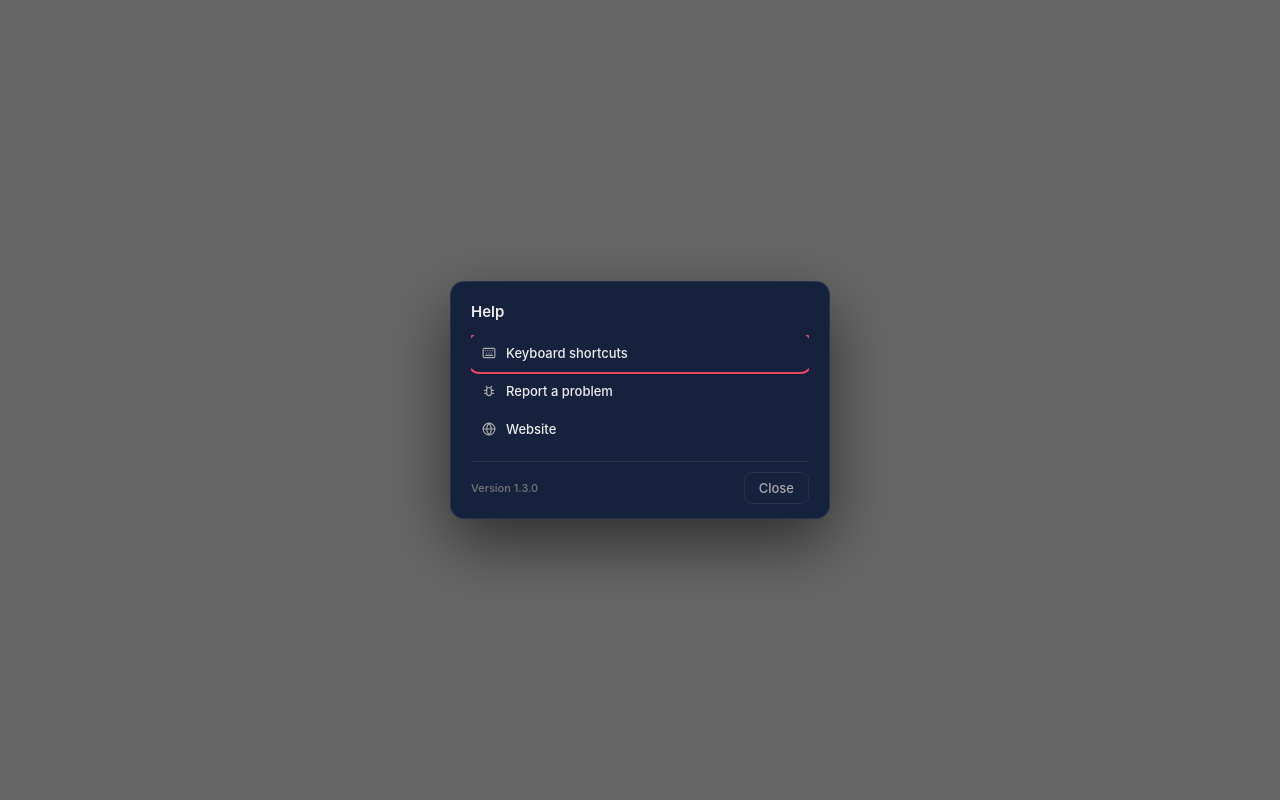
Scenario: HelpMenu — actions › reports a failed export instead of a fake path
Click the button "Report a problem".
click(559, 391)  # box [471,373,809,409]
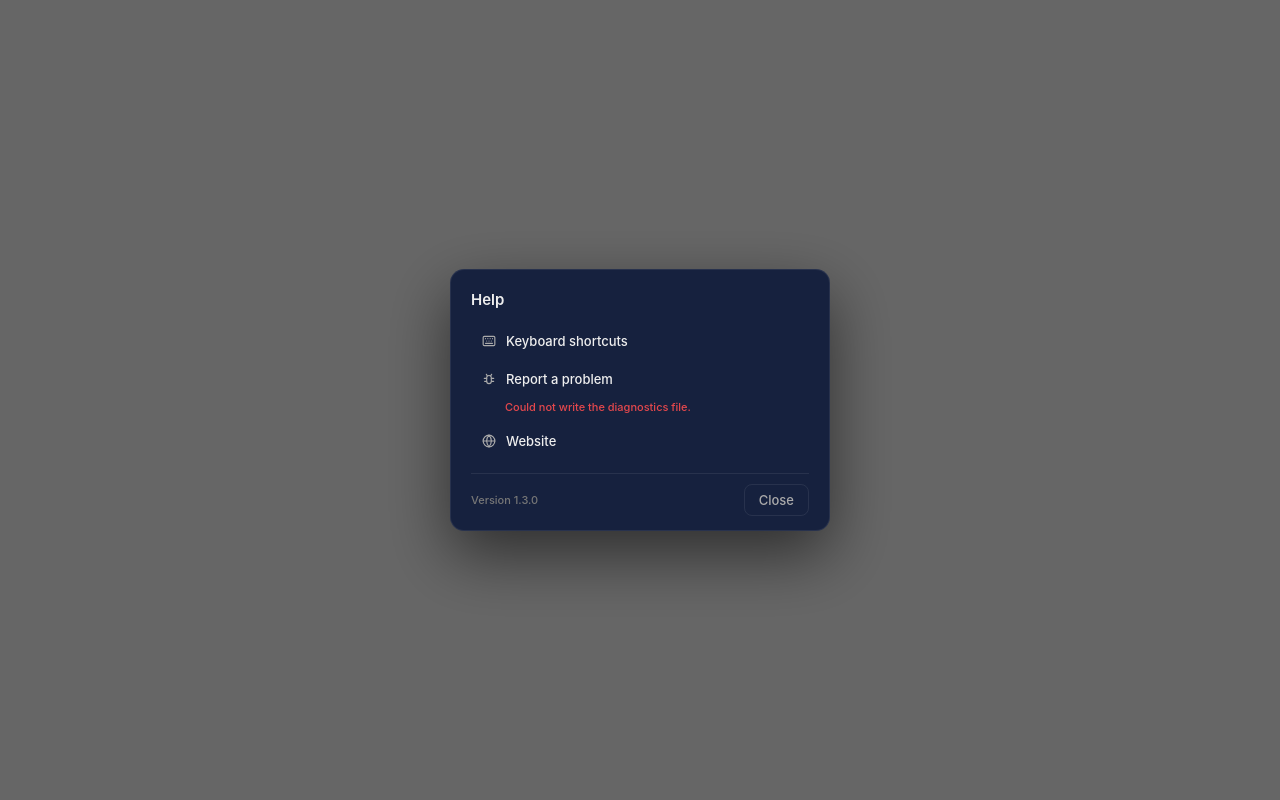
Result: the text "Could not write the diagnostics file." is shown at [505,400,691,414]
